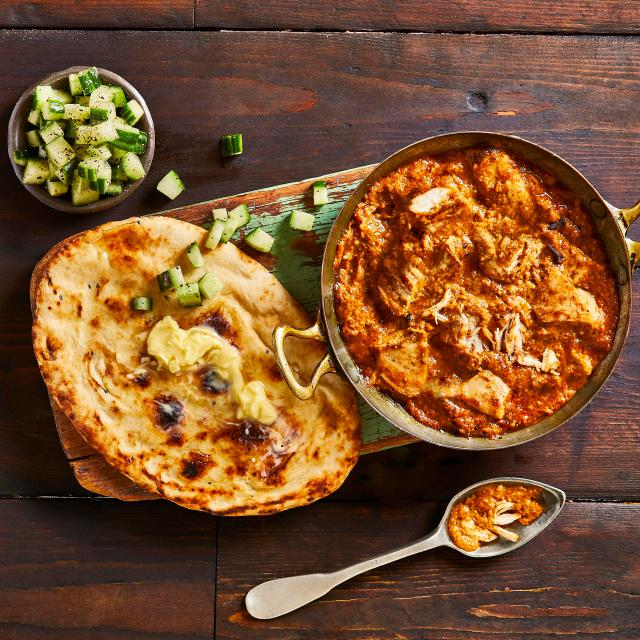Butter Chicken: (373, 163, 598, 443)
